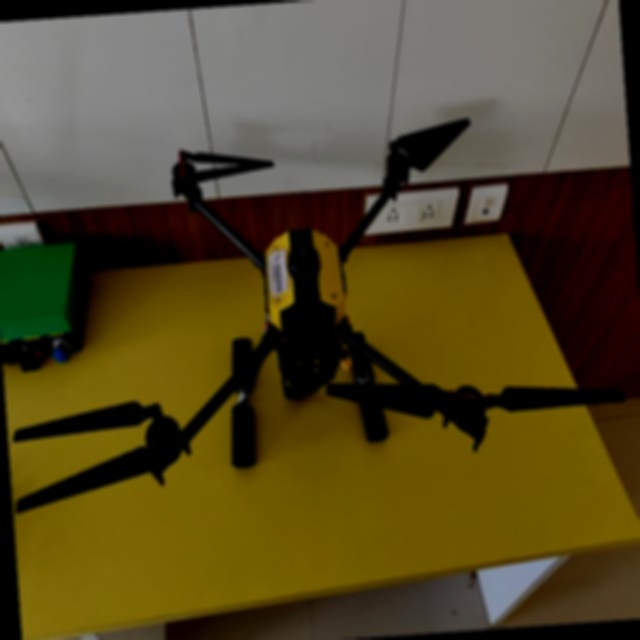quadcopter: (0, 101, 638, 525)
